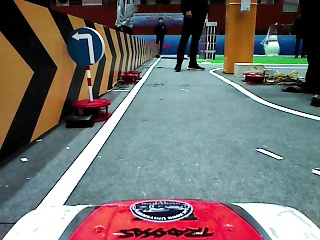turn: (66, 28, 106, 67)
